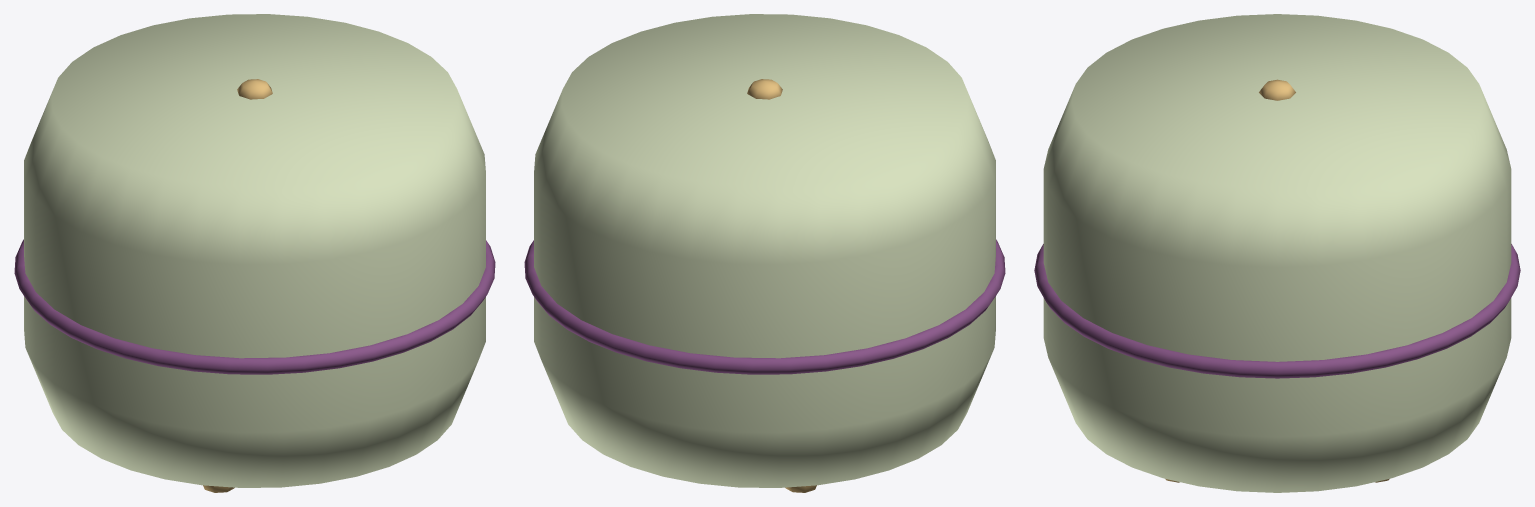
Rendered from Velvet_Pouf.fbx.
3 renders of one model, left to right at view 1: azimuth 30°, elevation 25°; view 2: azimuth 150°, elevation 25°; view 3: azimuth 270°, elevation 25°, orthographic.
Visible parts, largest first — view 1: Velvet_Pouf_Mesh; view 2: Velvet_Pouf_Mesh; view 3: Velvet_Pouf_Mesh.
Boxes of the visible parts, left/top/right/bottom form: Velvet_Pouf_Mesh: left=14, top=14, right=495, bottom=492; Velvet_Pouf_Mesh: left=524, top=14, right=1005, bottom=492; Velvet_Pouf_Mesh: left=1034, top=14, right=1520, bottom=492.
Bounding box in the file's own units: 0.52 × 0.422 × 0.52.
